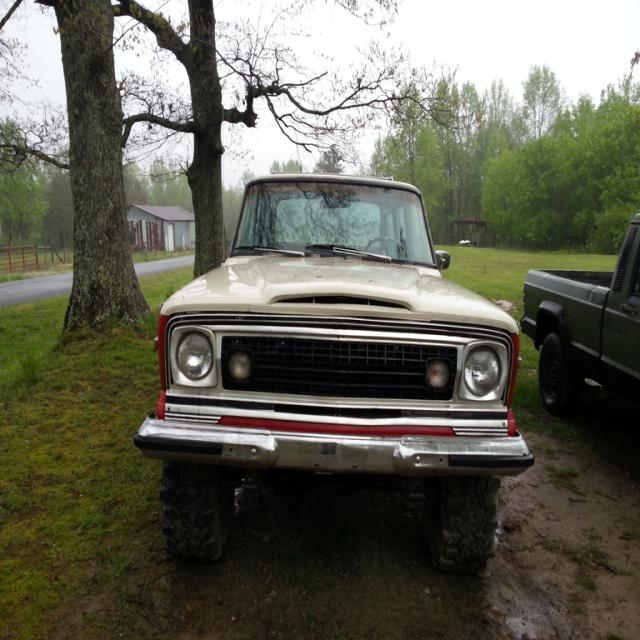car: (136, 166, 536, 563)
